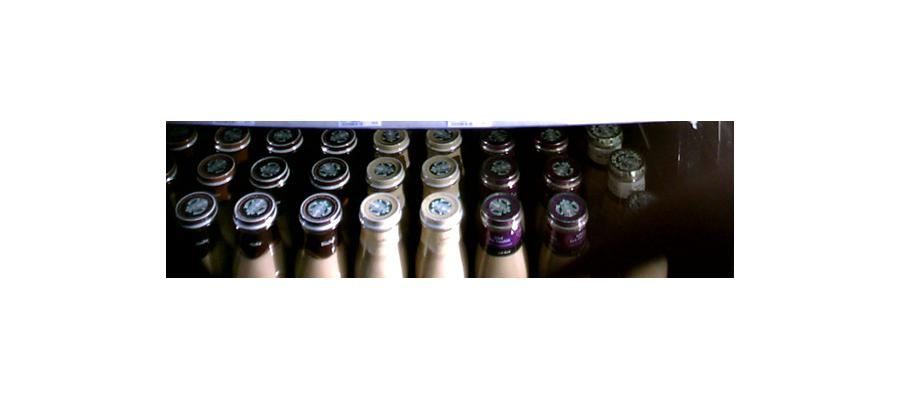bottle: (473, 165, 527, 274), (413, 168, 465, 275), (539, 168, 592, 264), (289, 192, 343, 278), (354, 190, 406, 277), (233, 190, 280, 273)
